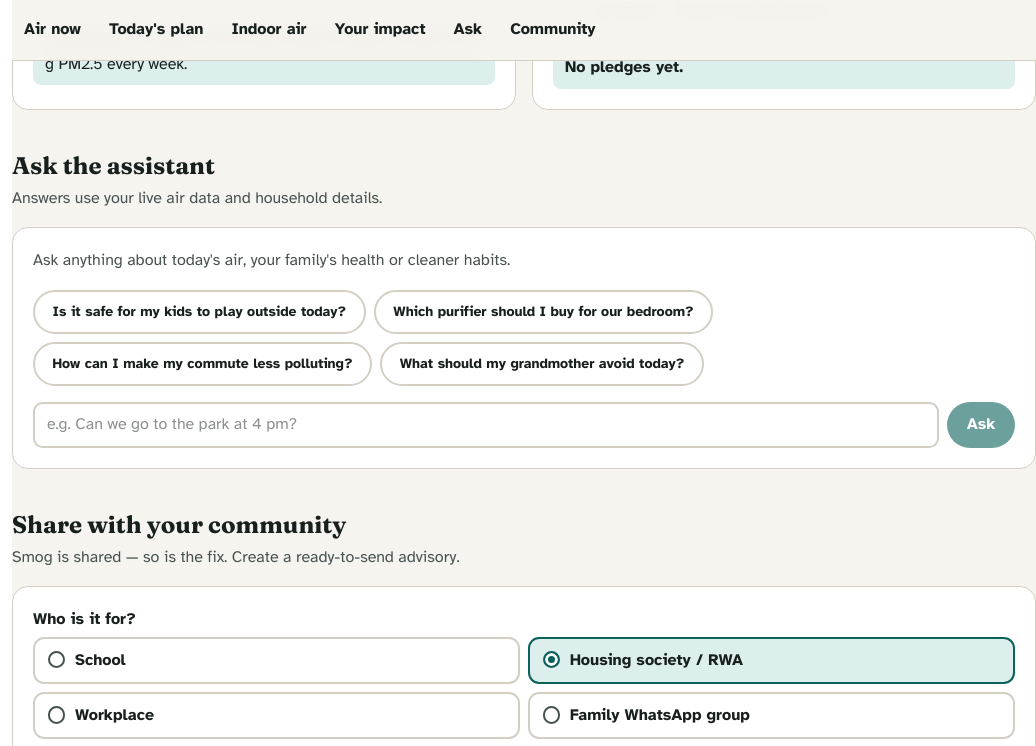
AskAssistant (inside the dashboard) › restores the question and shows the error when the assistant fails
(page scrolled)
Expected: the button "Ask" is disabled, [947,402,1015,448]
Type "Hello?" into the field named "Your question" at {"x": 486, "y": 425}, box [33,402,939,448]
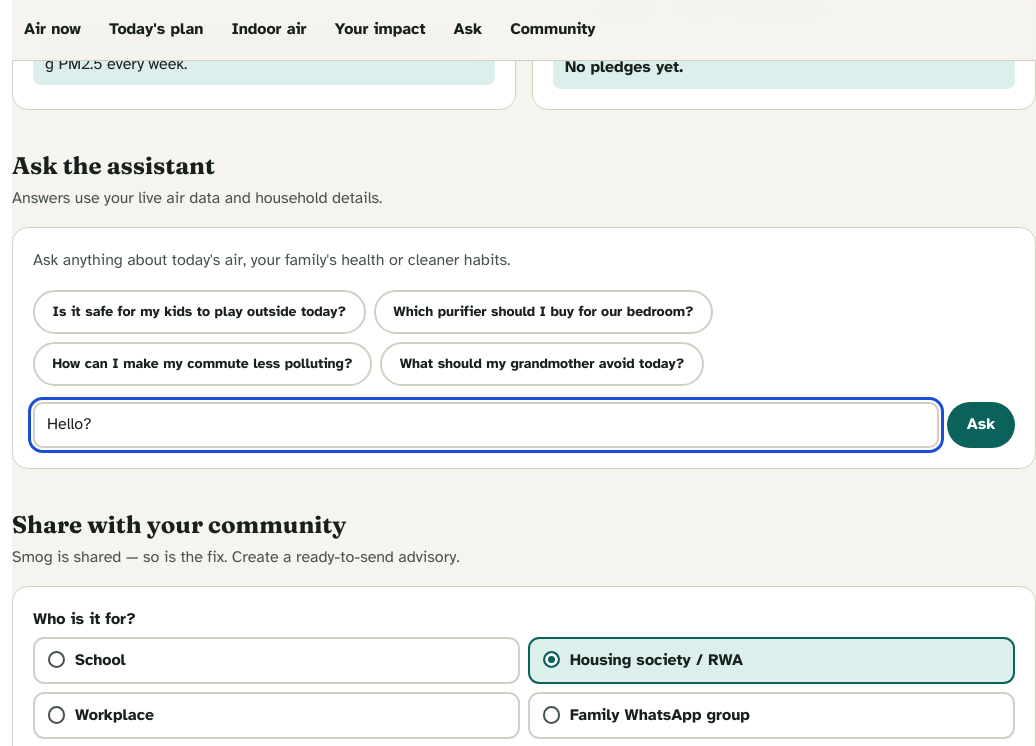
Click the button "Ask" at {"x": 981, "y": 425}, box [947,402,1015,448]
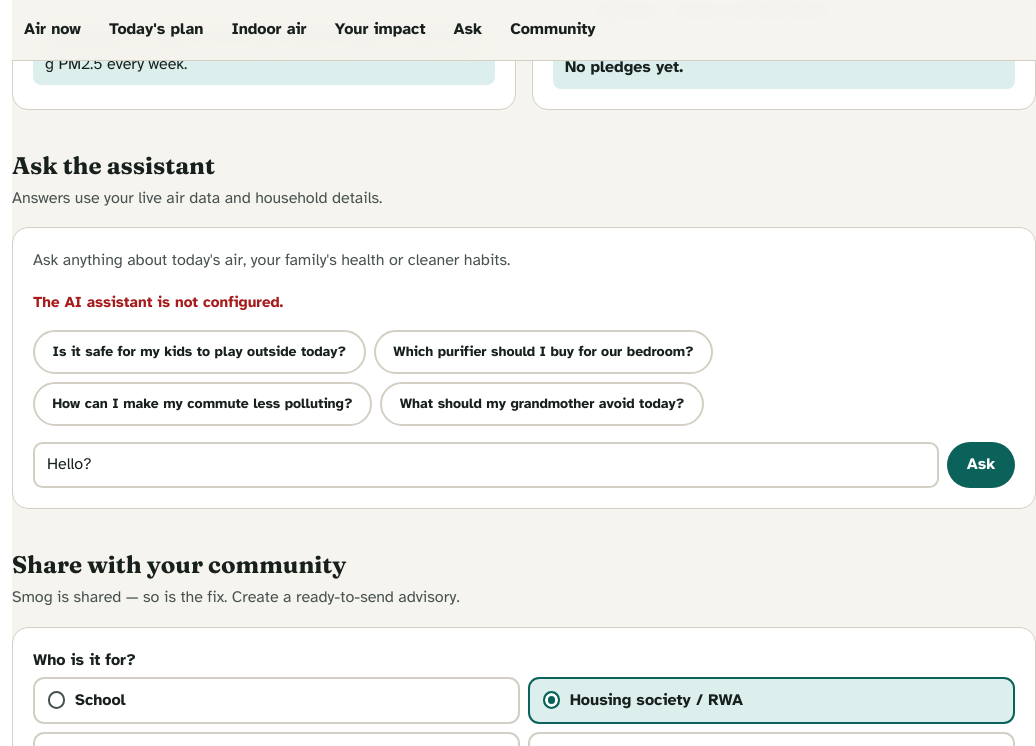
Result: the message reads "The AI assistant is not configured." at [33,293,283,311]
